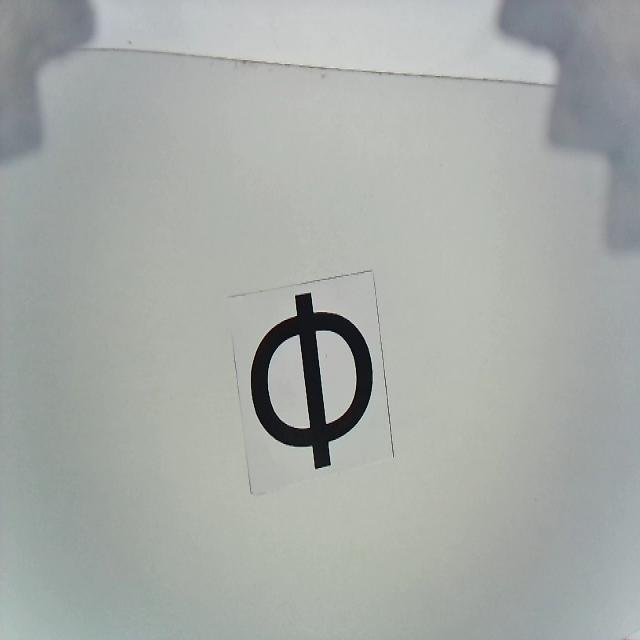F: (249, 291, 376, 471)
